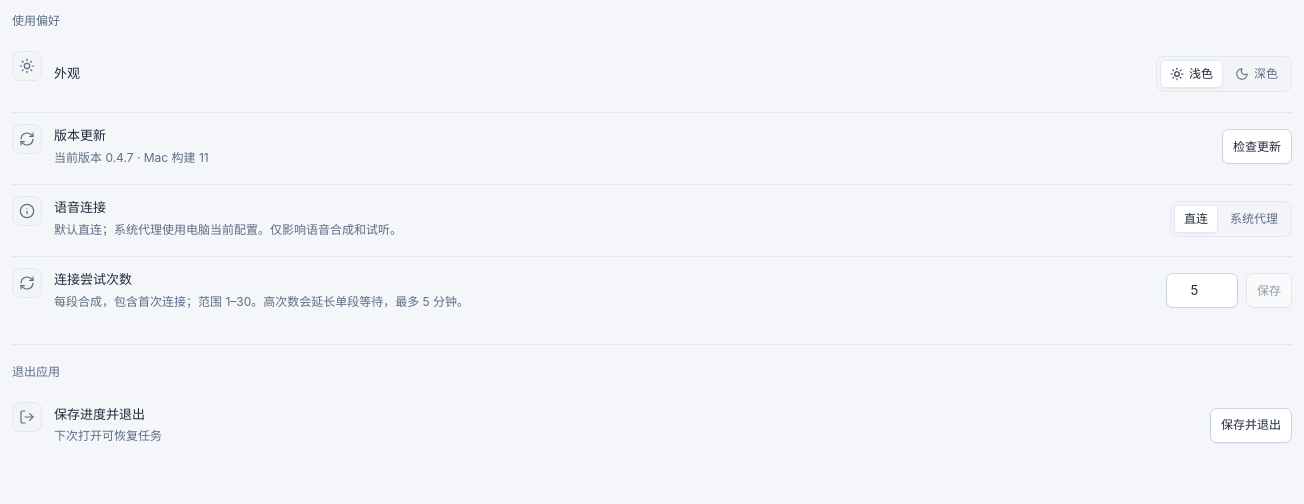
Test: explains the desktop requirement when opened in an ordinary browser
Click the button "检查更新" at (1257, 146), box [1222,129,1292,164]
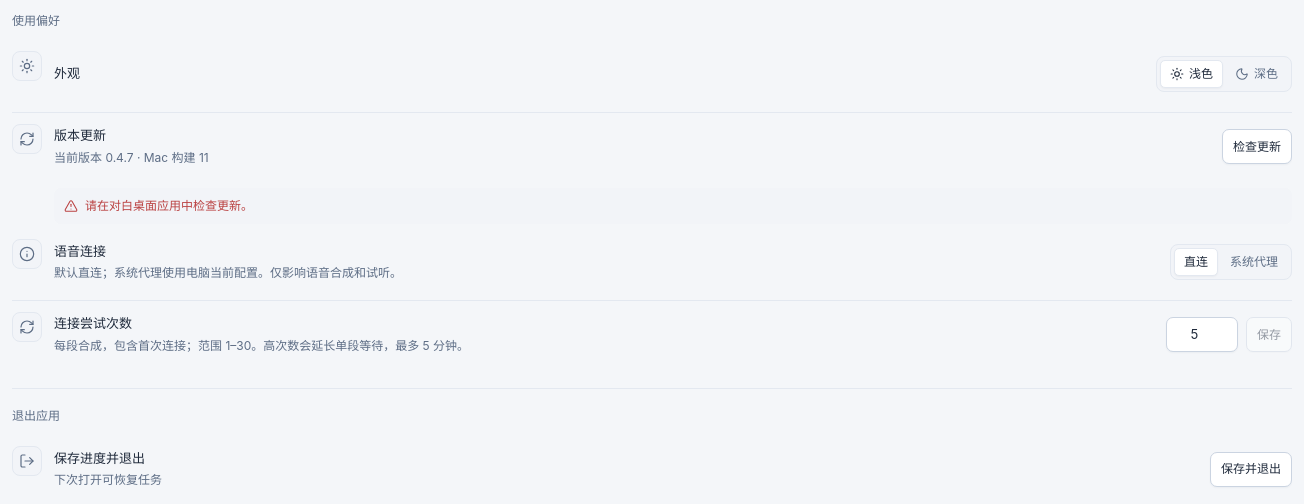
Expected: the message reads "请在对白桌面应用中检查更新。", [85,198,253,213]
